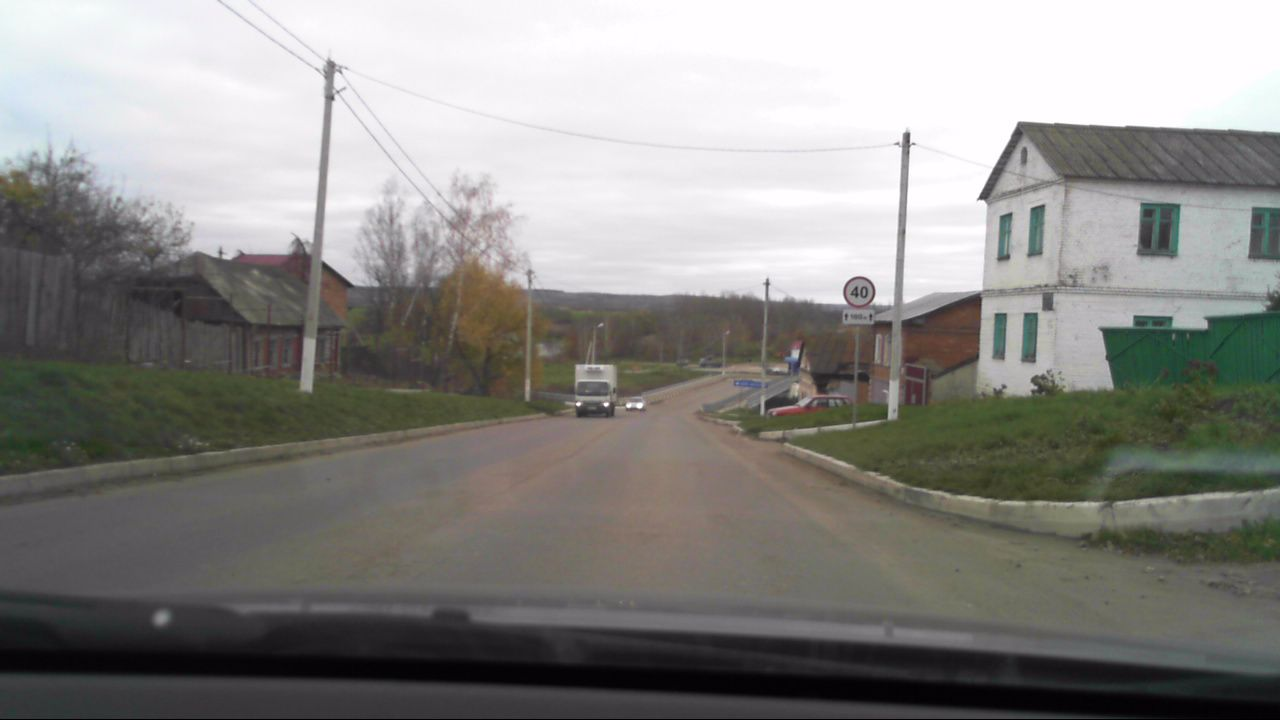speed_warning_40: (843, 275, 876, 308)
